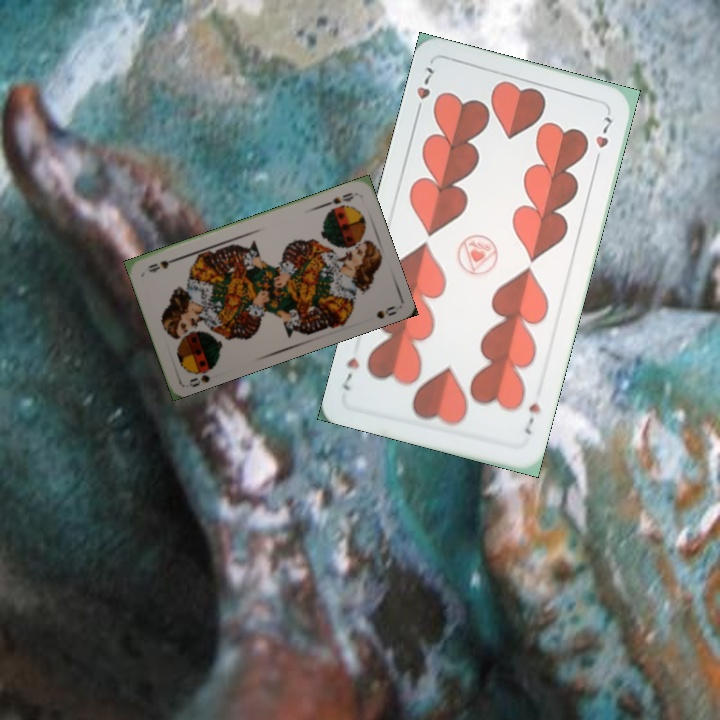H7: (411, 63, 436, 119), (521, 398, 543, 437)
SO: (185, 360, 219, 390), (319, 188, 356, 209)
